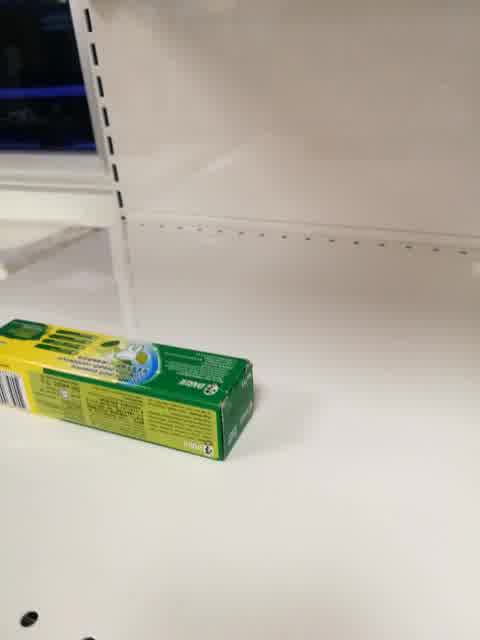toothpaste: (1, 316, 257, 462)
